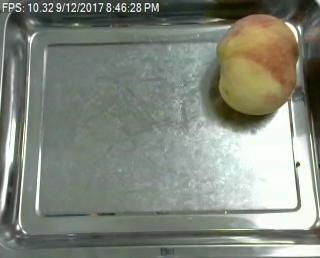Peach: (215, 13, 300, 115)
